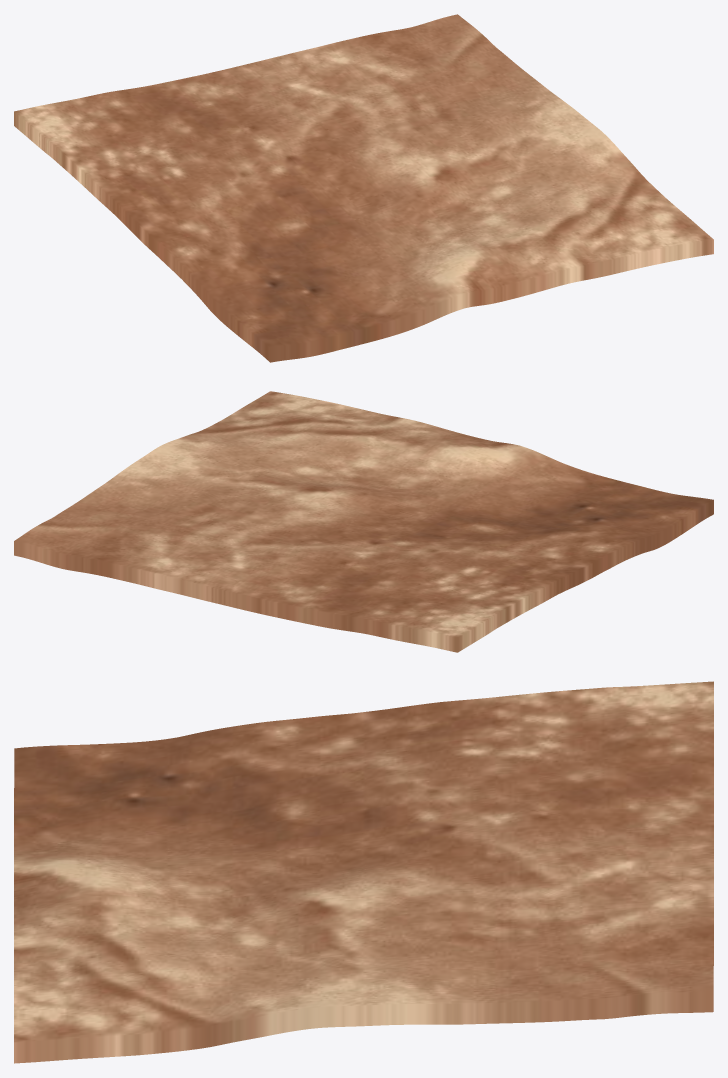
3 renders of one model, top to bottom at view 1: azimuth 30°, elevation 25°; view 2: azimuth 150°, elevation 25°; view 3: azimuth 270°, elevation 25°, orthographic. The views are drawn at different scales.
Parts seen in each view (by area): view 1: L8_89_93; view 2: L8_89_93; view 3: L8_89_93.
Boxes of the visible parts, bbox=[...] form: L8_89_93: bbox=[14, 14, 713, 362]; L8_89_93: bbox=[14, 391, 713, 652]; L8_89_93: bbox=[14, 681, 713, 1063].
Size of the model in its own units: 56.28 by 8.24 by 56.29.
1 material, 1 textured.
